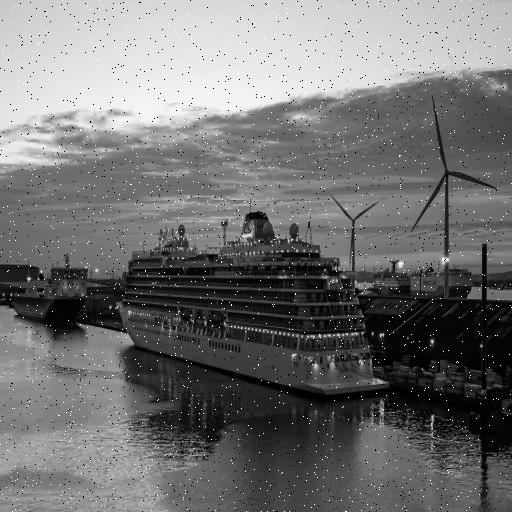cruises: (117, 205, 392, 412)
